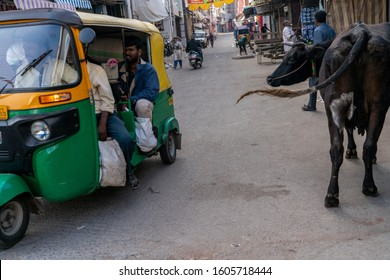motorbike: (186, 50, 203, 70)
threewheel: (1, 7, 182, 251)
